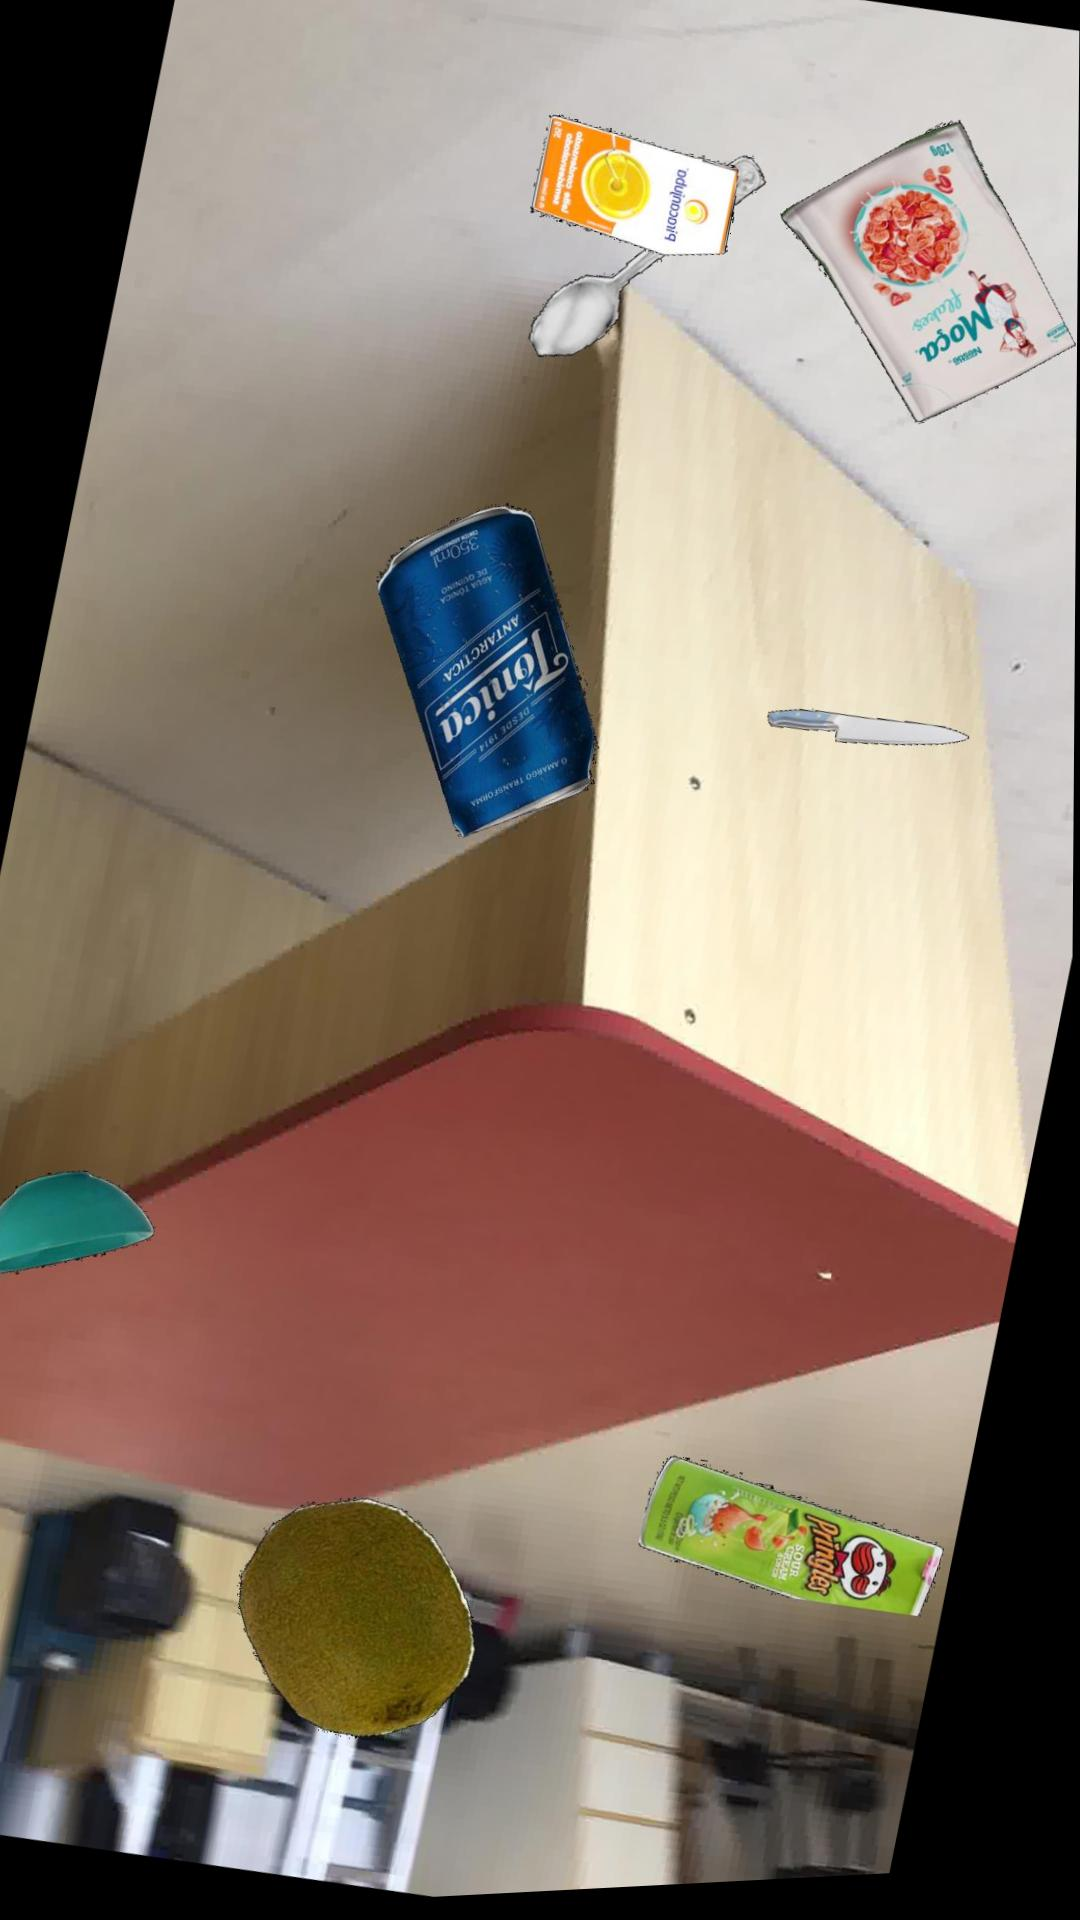bowl: (0, 1174, 157, 1276)
corn flakes: (782, 132, 1077, 435)
kiwi: (243, 1503, 479, 1745)
knife: (770, 720, 971, 757)
pringles: (642, 1465, 948, 1629)
spoon: (530, 165, 767, 365)
tonic: (378, 513, 599, 844)
